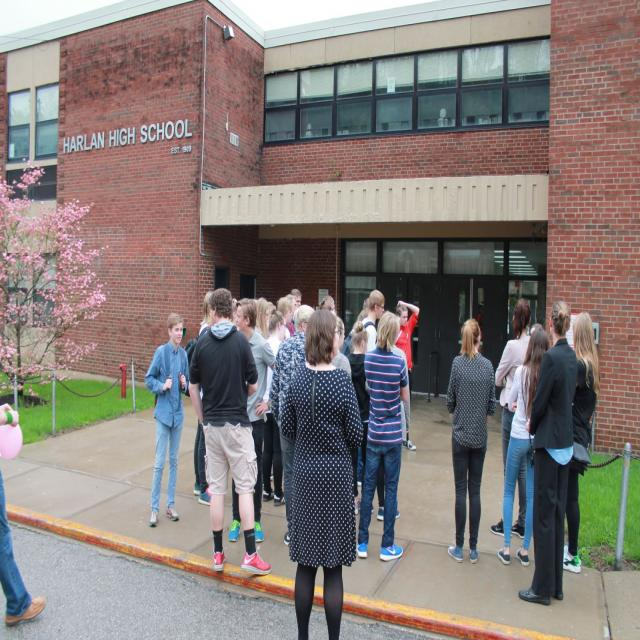body: (277, 306, 366, 639), (187, 286, 273, 578), (518, 298, 580, 608), (355, 310, 410, 563), (497, 328, 551, 568), (445, 317, 497, 565), (227, 297, 277, 545), (268, 304, 318, 550), (558, 310, 601, 574), (0, 390, 47, 630), (144, 310, 192, 528), (490, 296, 532, 538), (181, 288, 215, 509), (344, 319, 375, 515), (376, 344, 408, 520), (261, 305, 288, 508), (393, 298, 420, 452), (318, 295, 352, 382), (358, 287, 387, 353), (232, 295, 278, 332), (254, 296, 272, 340), (277, 296, 294, 340), (285, 293, 298, 325), (357, 298, 368, 322), (290, 288, 302, 309), (529, 321, 543, 336)
